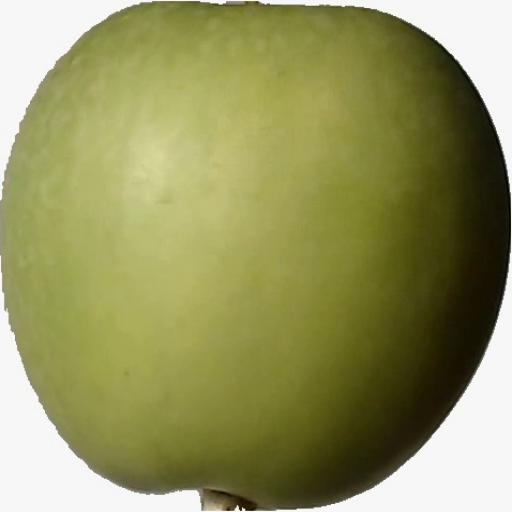apple-unripe: (0, 0, 506, 512)
